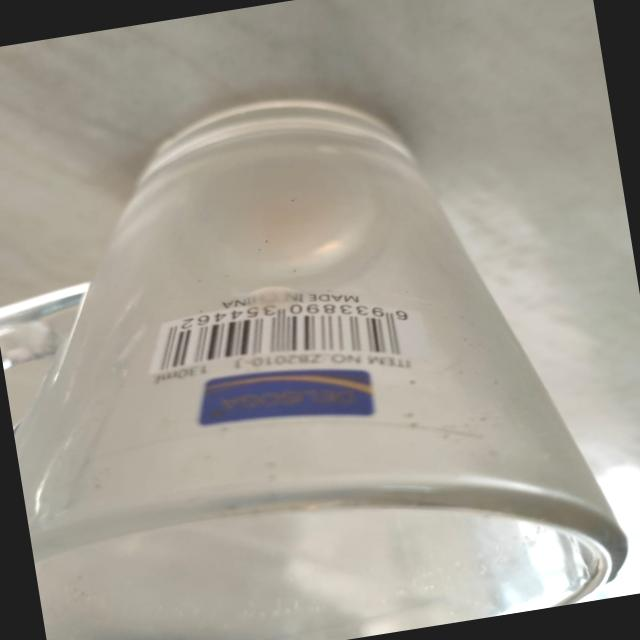glass-VX4N: (0, 53, 639, 640)
